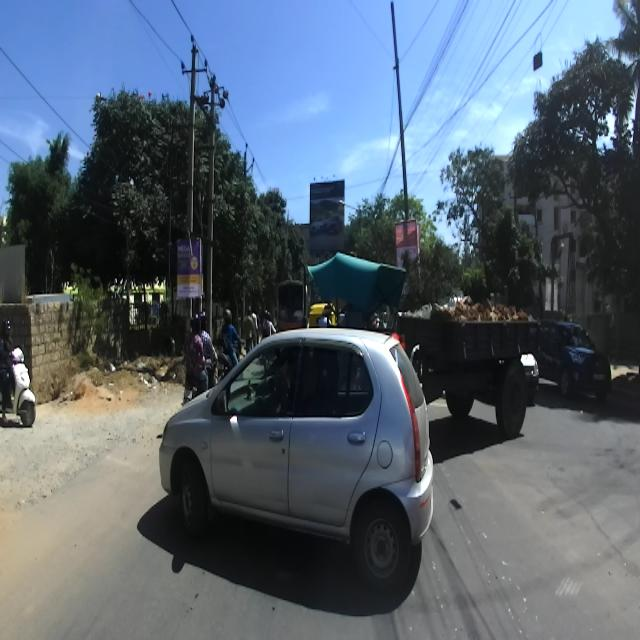car ahead at: (155, 324, 442, 600)
electric pole ahead at: (173, 25, 232, 328)
motorcycle ahead at: (0, 306, 40, 445)
